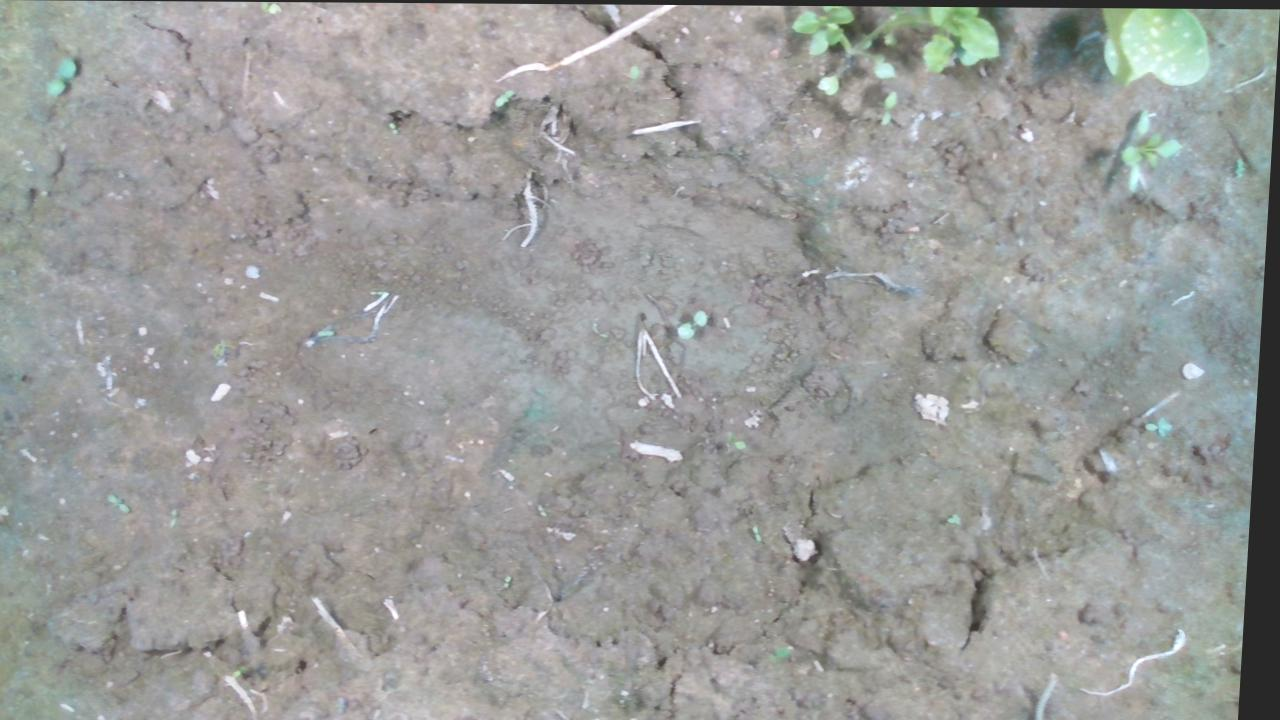weed: (28, 52, 77, 101), (672, 302, 715, 346)
